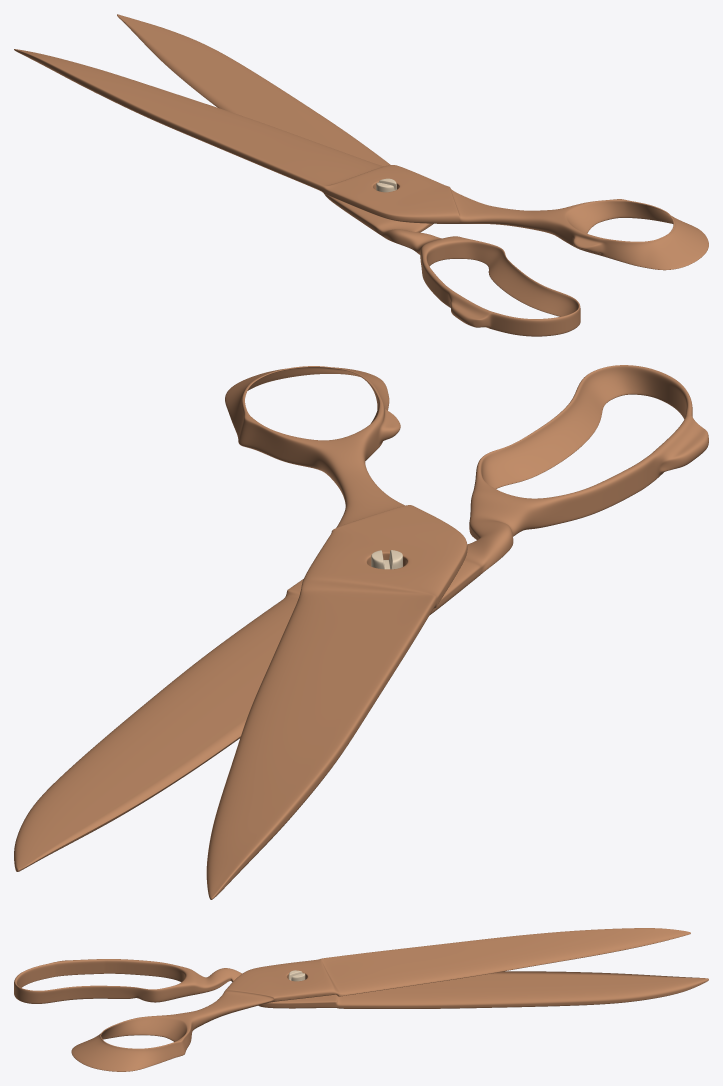
File: tailorShears.glb
3 renders of one model, top to bottom at view 1: azimuth 30°, elevation 25°; view 2: azimuth 150°, elevation 25°; view 3: azimuth 270°, elevation 25°, orthographic. The views are drawn at different scales.
Visible parts, largest first — view 1: thumbBlade.002, fingerBlade.002; view 2: thumbBlade.002, fingerBlade.002; view 3: thumbBlade.002, fingerBlade.002.
Boxes of the visible parts, x1,y1,x2,y2 form: thumbBlade.002: [14, 49, 708, 270]; fingerBlade.002: [117, 14, 580, 336]; thumbBlade.002: [206, 366, 467, 899]; fingerBlade.002: [14, 365, 708, 871]; thumbBlade.002: [71, 928, 690, 1071]; fingerBlade.002: [14, 959, 708, 1008].
Size of the model in its own units: 0.074 by 0.00628 by 0.1629.
